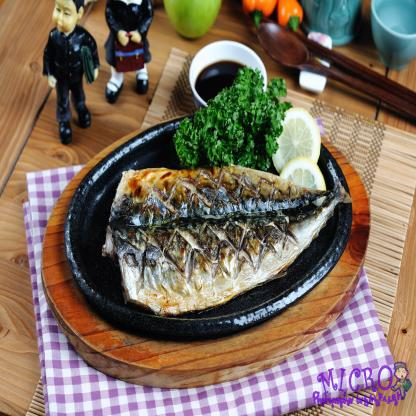Peixe: (90, 168, 343, 322)
